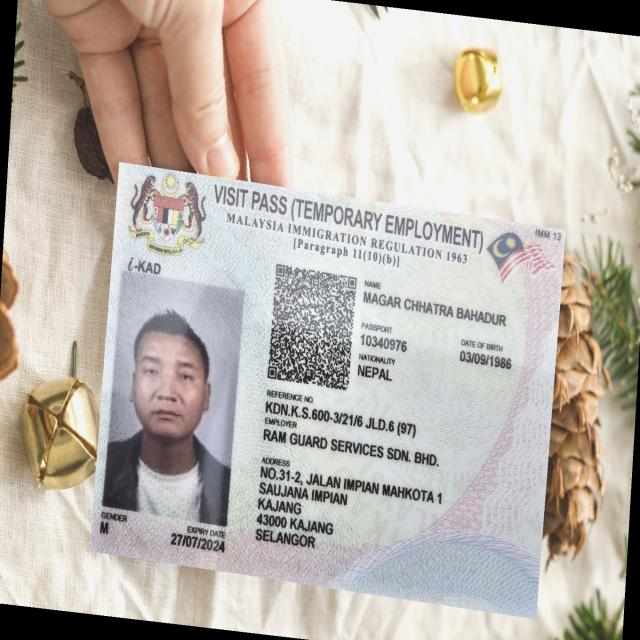ikad-temp: (89, 160, 566, 619)
